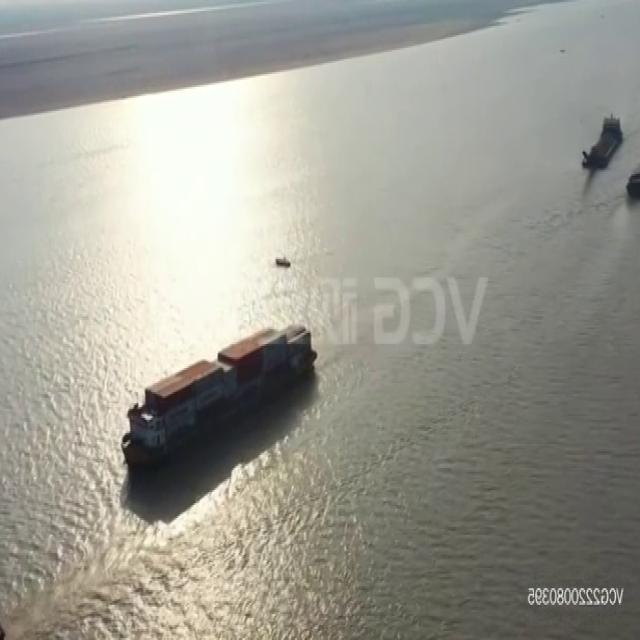cargoship: (121, 310, 317, 470)
